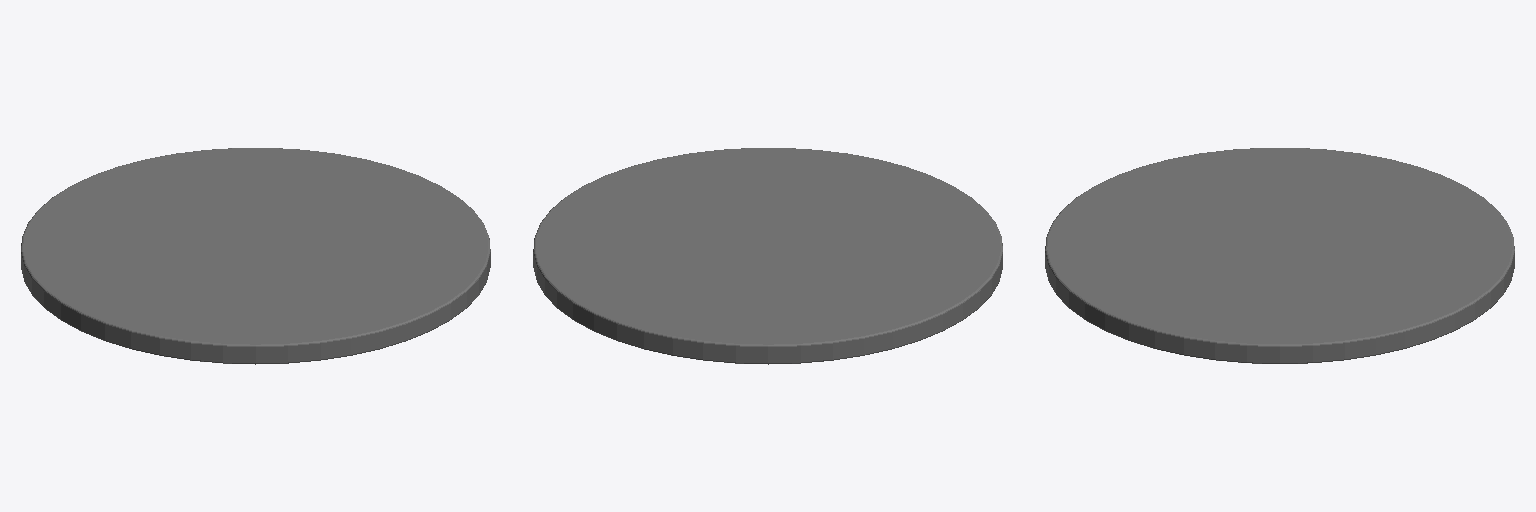
Rendered from nickel.obj.
The picture shows the model from 3 angles: view 1: azimuth 30°, elevation 25°; view 2: azimuth 150°, elevation 25°; view 3: azimuth 270°, elevation 25°; orthographic projection.
Visible parts, largest first — view 1: nickel; view 2: nickel; view 3: nickel.
Boxes of the visible parts, box(x1,y1,x2,y2) form: nickel: box(21, 148, 490, 364); nickel: box(533, 148, 1002, 364); nickel: box(1045, 148, 1514, 363).
Bounding box in the file's own units: 1.08 × 0.0498 × 1.08.